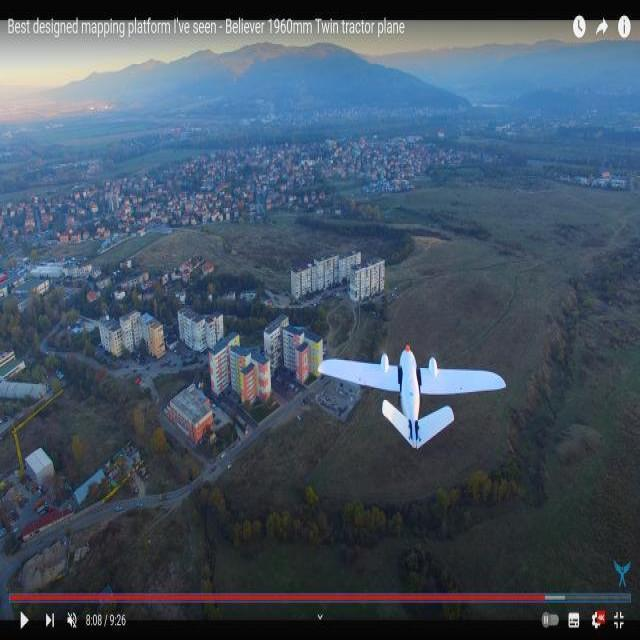iha: (298, 364, 506, 410)
